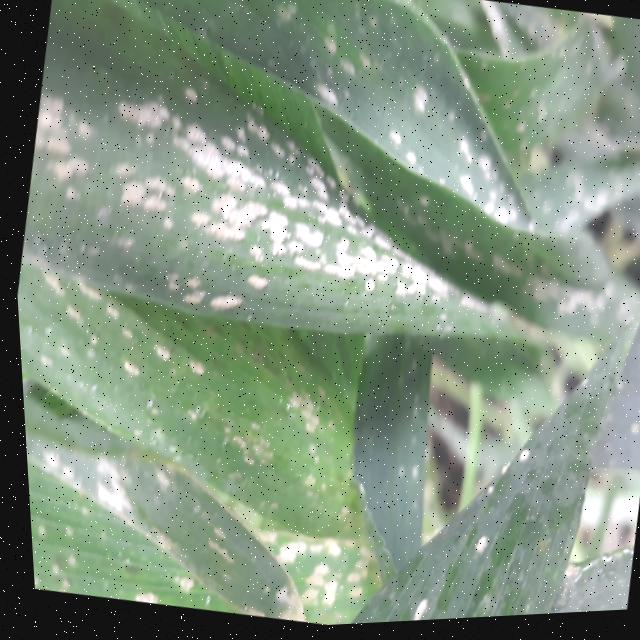powder_mildew: (0, 0, 640, 407), (14, 289, 433, 640), (385, 269, 640, 625)
